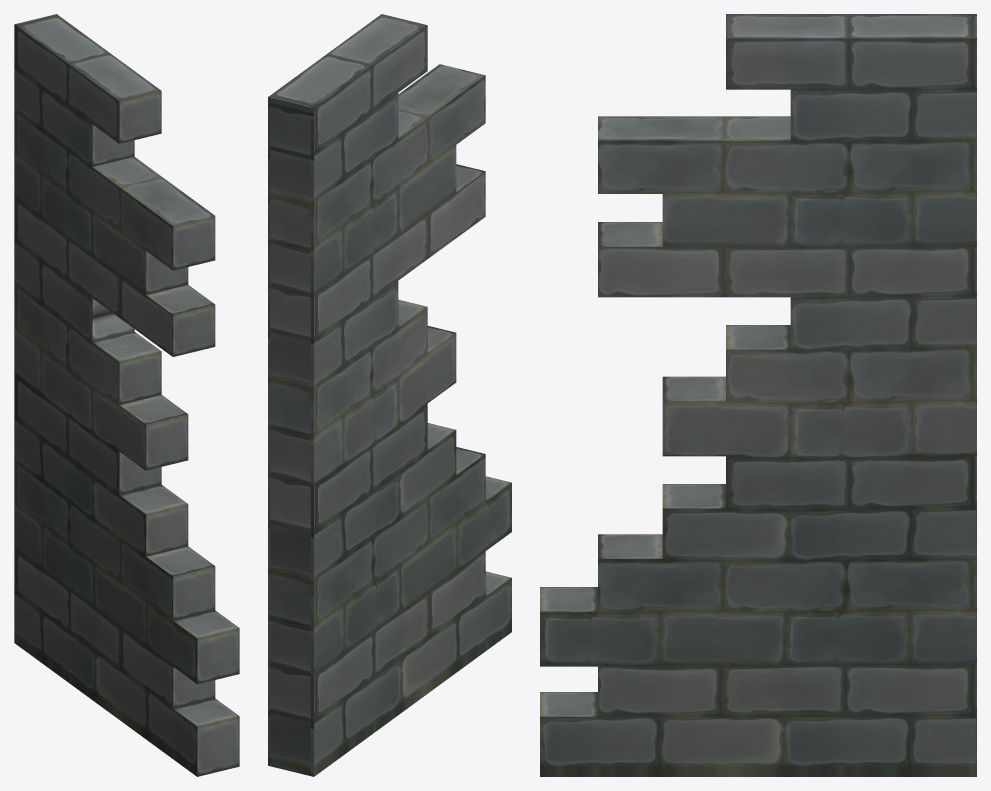
Rendered from wallHalf 2.FBX.
3 renders of one model, left to right at view 1: azimuth 30°, elevation 25°; view 2: azimuth 150°, elevation 25°; view 3: azimuth 270°, elevation 25°, orthographic. The views are drawn at different scales.
Visible parts, largest first — view 1: wall_end2; view 2: wall_end2; view 3: wall_end2.
Boxes of the visible parts, box(x1,y1,x2,y2) form: wall_end2: box(14, 14, 239, 776); wall_end2: box(268, 14, 511, 776); wall_end2: box(540, 14, 976, 776).
Bounding box in the file's own units: 13.23 × 184 × 98.82.
Materials: 1 (1 with a texture image).
